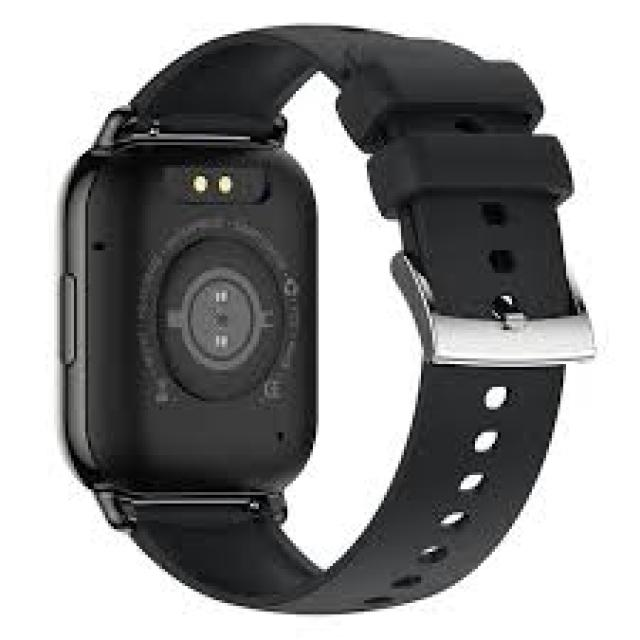objects: (63, 21, 589, 612)
